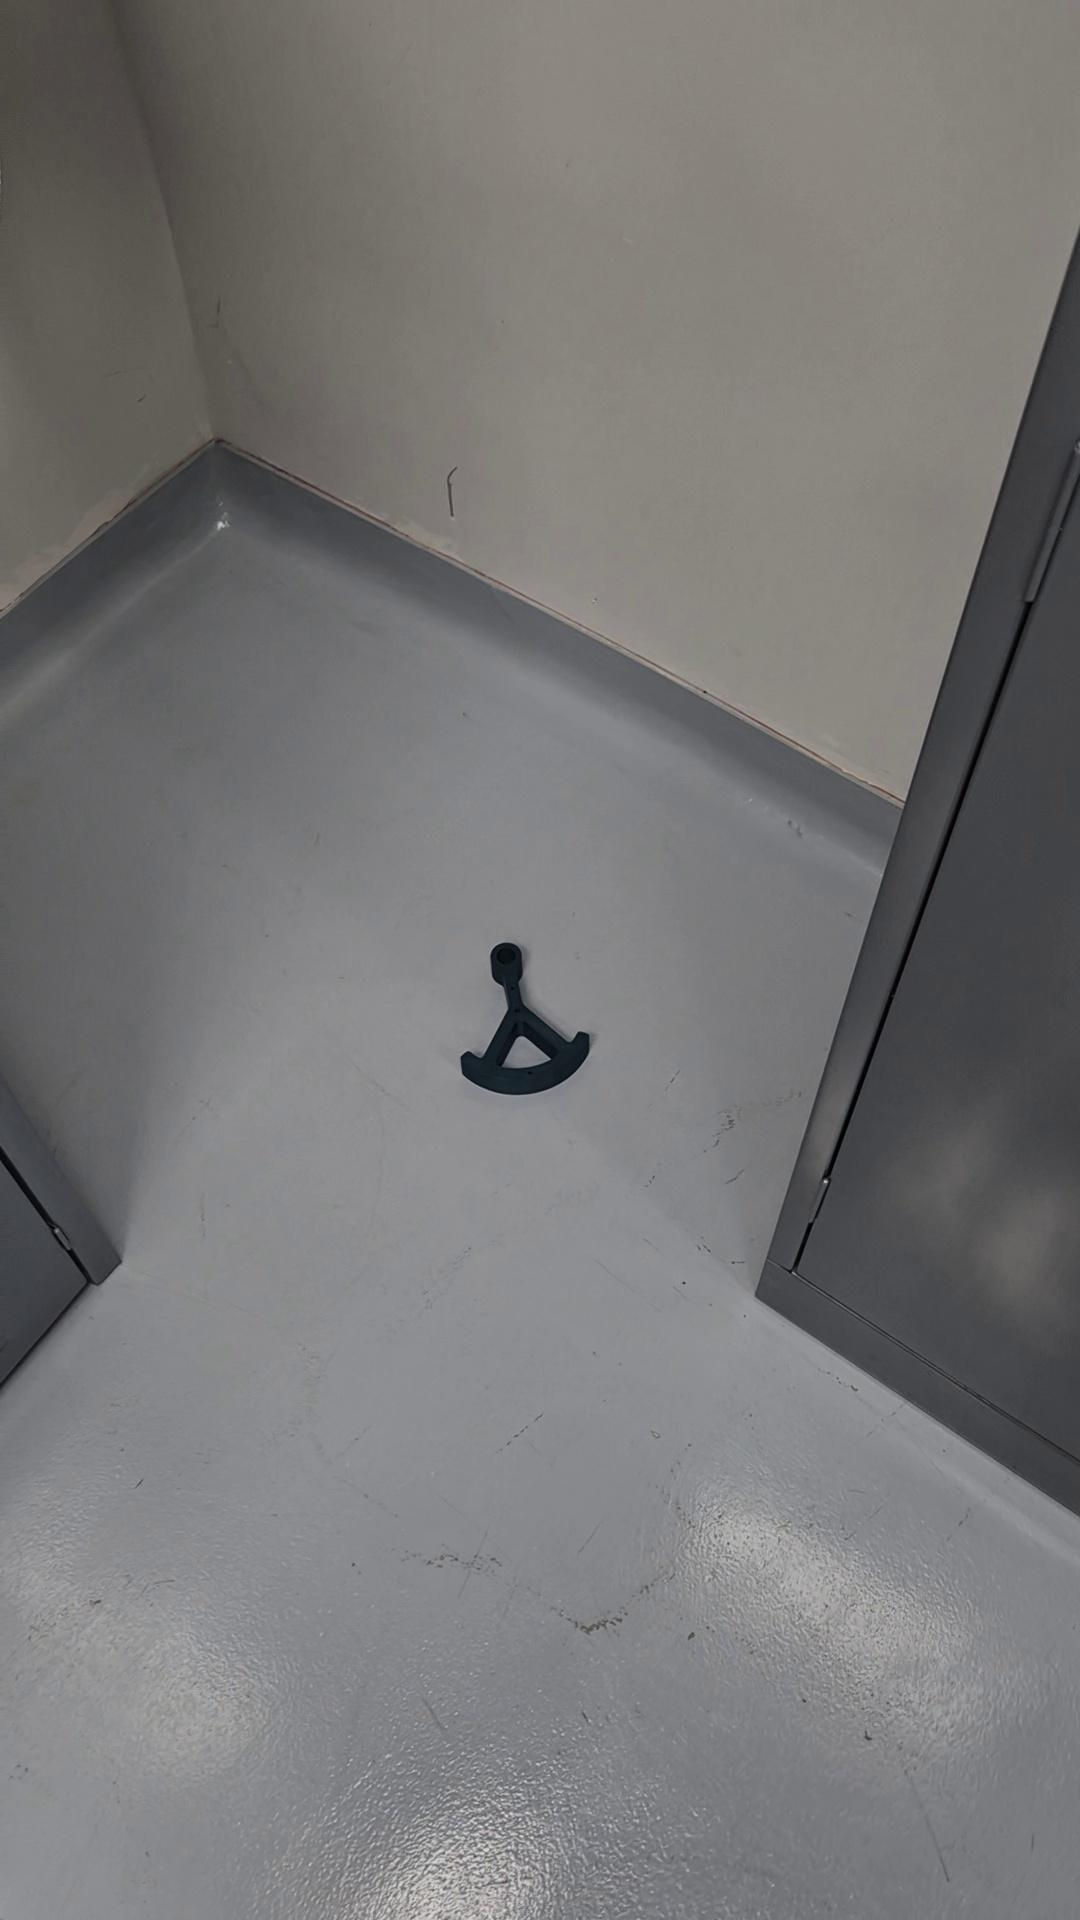Paddles: (459, 942, 592, 1097)
